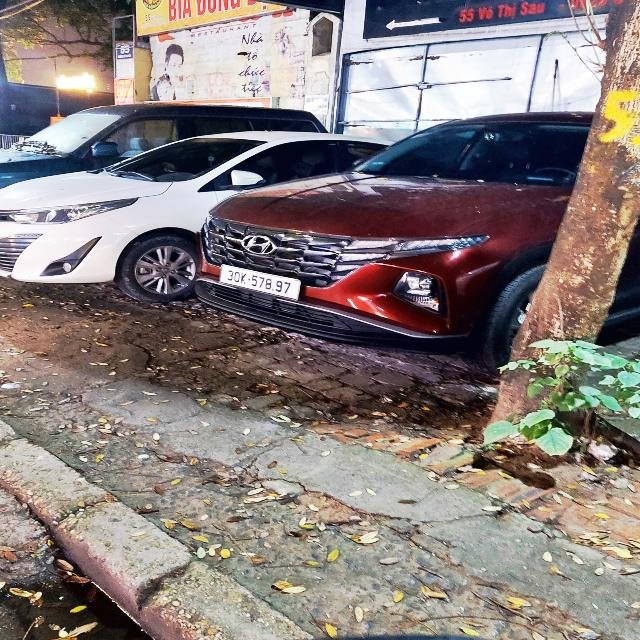license_plate: (220, 264, 304, 301)
